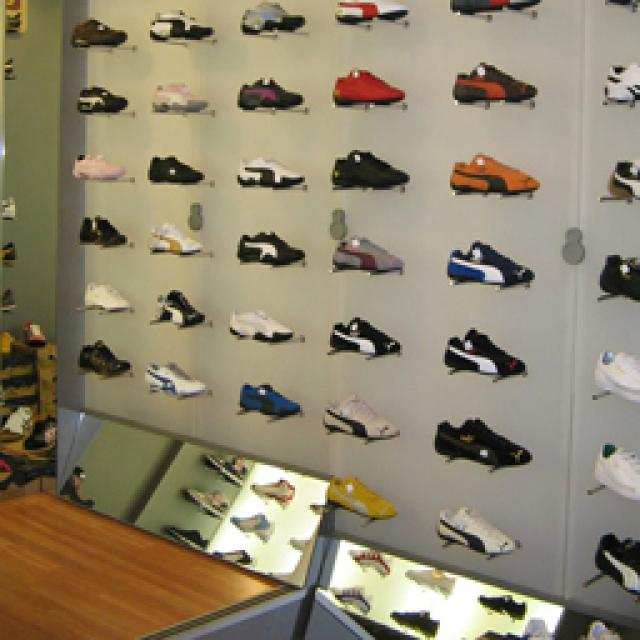mirror crop: (52, 412, 330, 585), (305, 535, 560, 638)
sneaker: (428, 418, 530, 462), (430, 505, 515, 550), (440, 240, 530, 280), (438, 328, 522, 370), (448, 150, 535, 190), (450, 58, 532, 100), (318, 392, 398, 435), (325, 148, 408, 185), (325, 315, 398, 355), (330, 68, 405, 105), (222, 305, 290, 340), (235, 230, 302, 262), (140, 358, 202, 392), (232, 155, 300, 185), (332, 238, 400, 268), (235, 380, 298, 412), (235, 78, 302, 108), (148, 8, 212, 38), (68, 15, 125, 45), (150, 290, 202, 322), (78, 278, 128, 310), (150, 78, 202, 108), (78, 340, 125, 372), (148, 222, 200, 250), (75, 212, 122, 242), (70, 150, 120, 178), (145, 155, 200, 180), (75, 82, 125, 108)
stand clothes: (0, 490, 405, 637), (0, 335, 50, 500)
